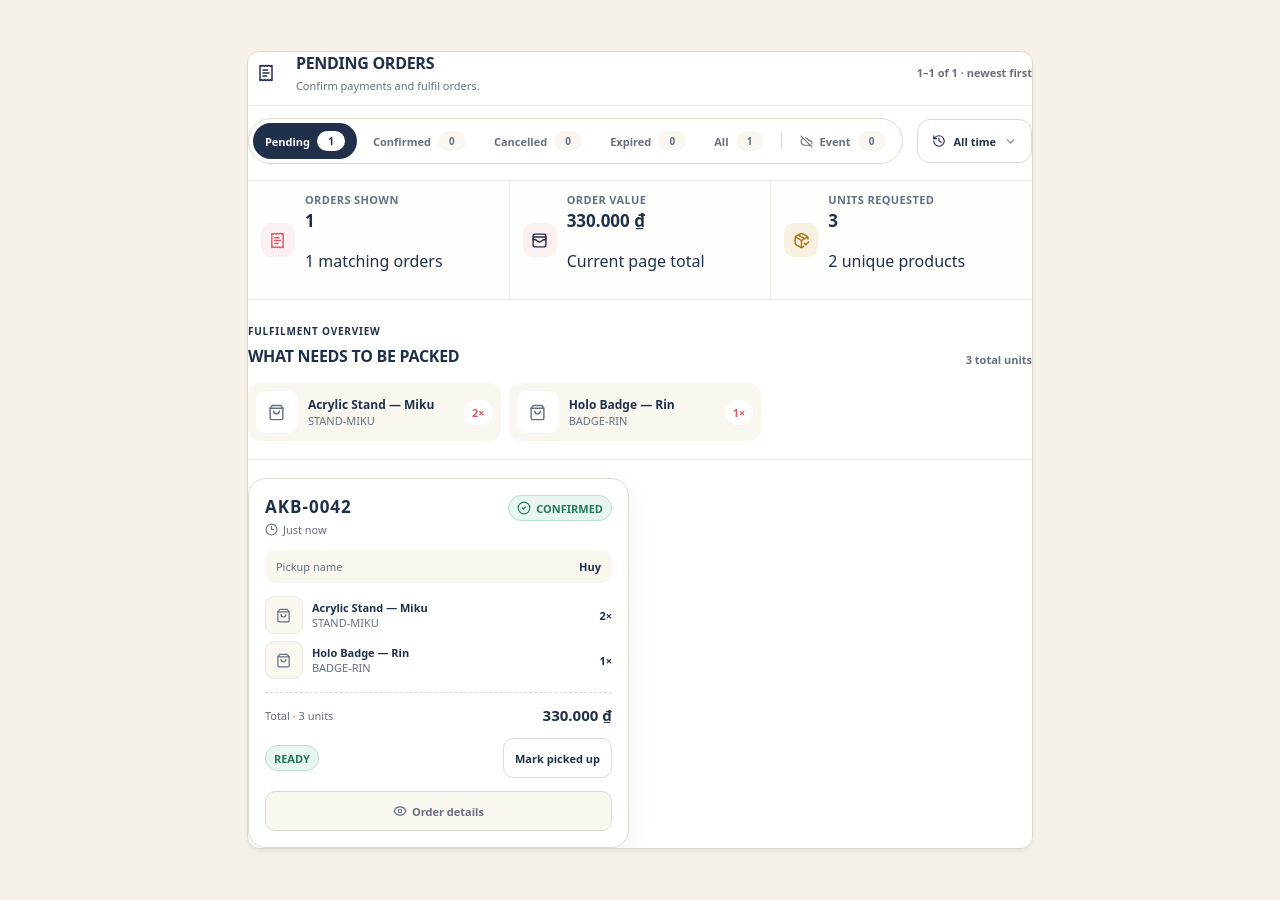
OrderQueue › shows the staff actor for the latest fulfilment update
Click the button "Order details" at (438, 812), box [265,792,612,832]
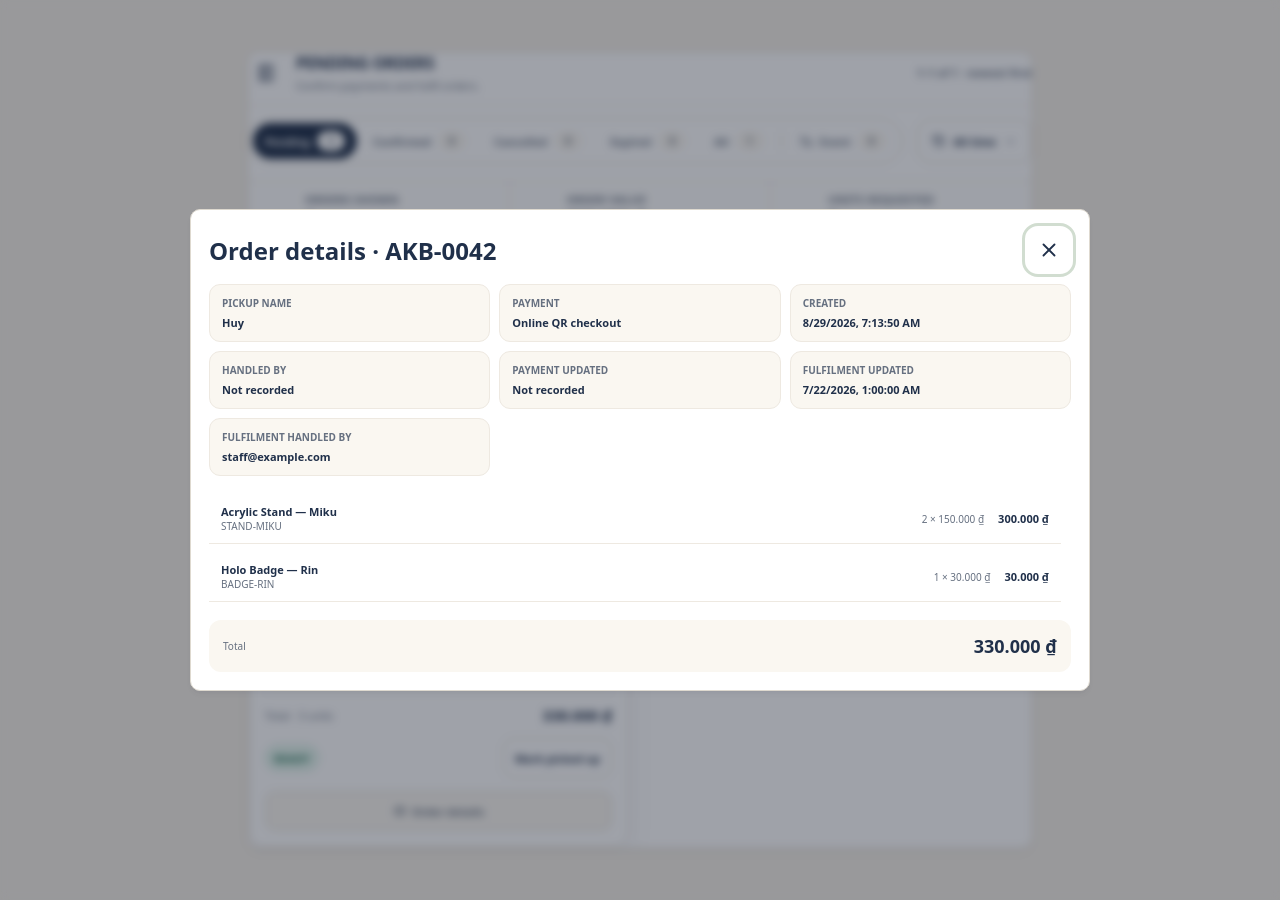
Expected: the text "Fulfilment handled by" is shown, [222,430,352,444]
Expected: the text "staff@example.com" is shown, [222,449,331,464]
